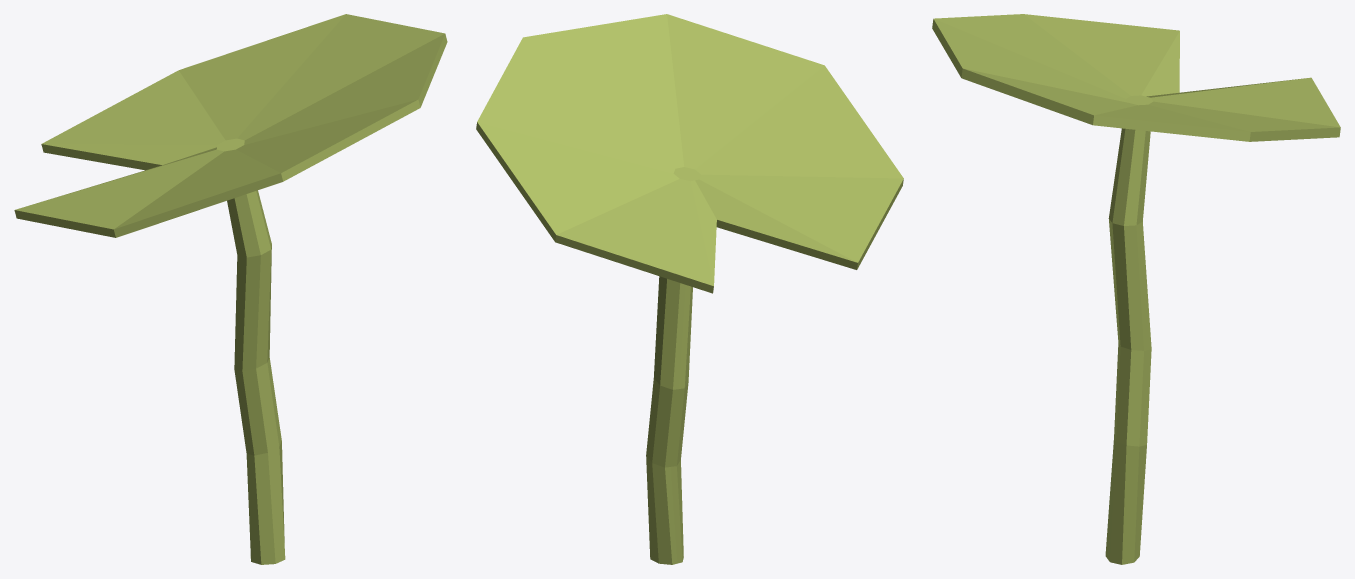
Rendered from 07_Nenuphare_01_V001.fbx.
The picture shows the model from 3 angles, left to right: view 1: azimuth 30°, elevation 25°; view 2: azimuth 150°, elevation 25°; view 3: azimuth 270°, elevation 25°; orthographic projection. The views are drawn at different scales.
Visible parts, largest first — view 1: Nenuphare_01; view 2: Nenuphare_01; view 3: Nenuphare_01.
Boxes of the visible parts, left/top/right/bottom form: Nenuphare_01: left=14, top=14, right=447, bottom=564; Nenuphare_01: left=476, top=14, right=903, bottom=564; Nenuphare_01: left=932, top=14, right=1340, bottom=564.
Bounding box in the file's own units: 3.79 × 4.57 × 3.21.
